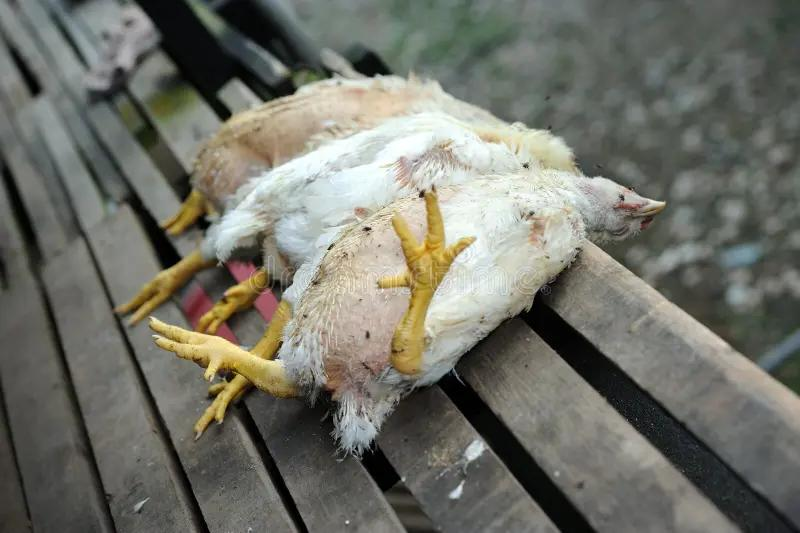AbNormal: (104, 64, 681, 407)
